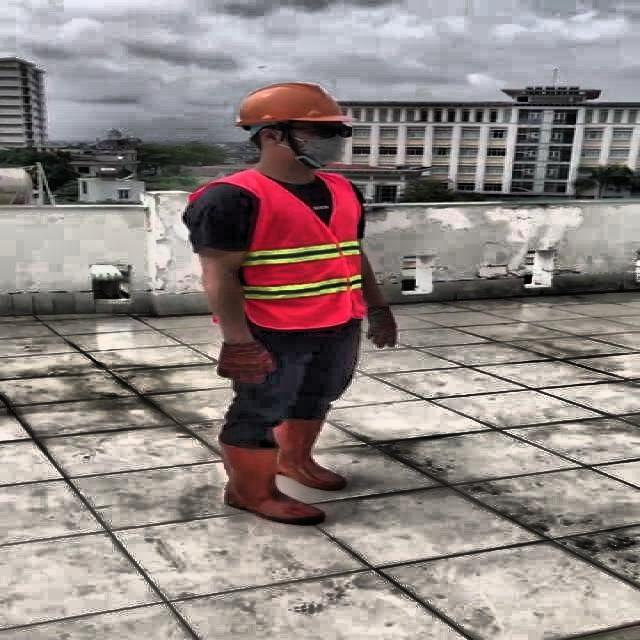safety_jacket: (232, 175, 366, 330)
